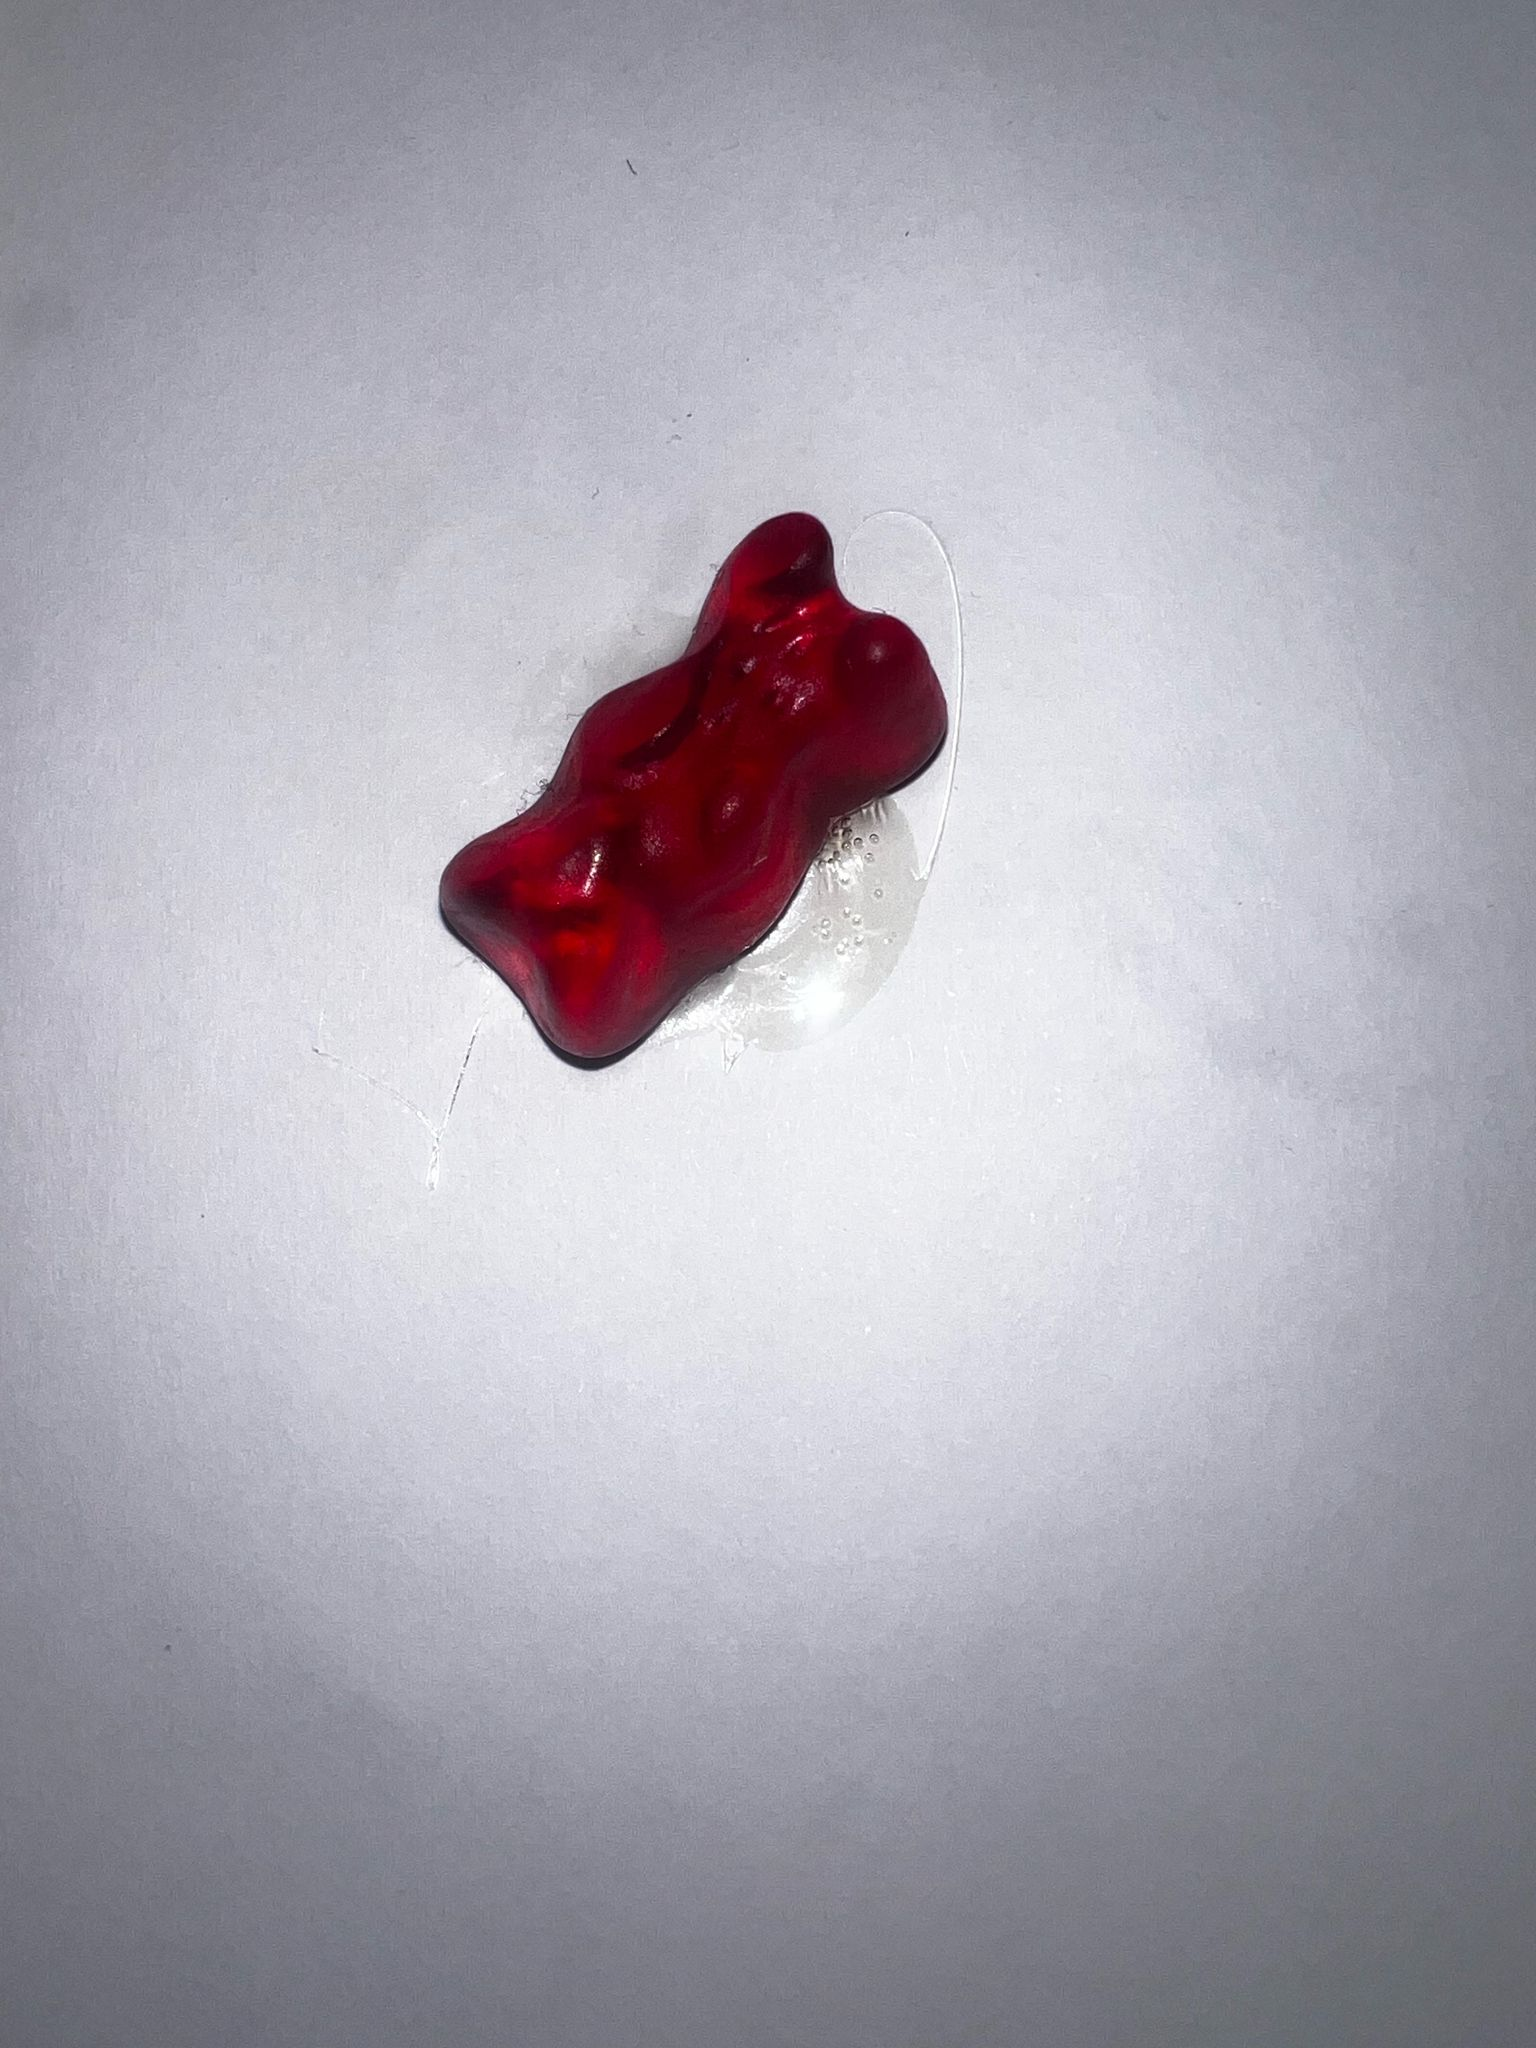gummybear: (416, 498, 952, 1074)
